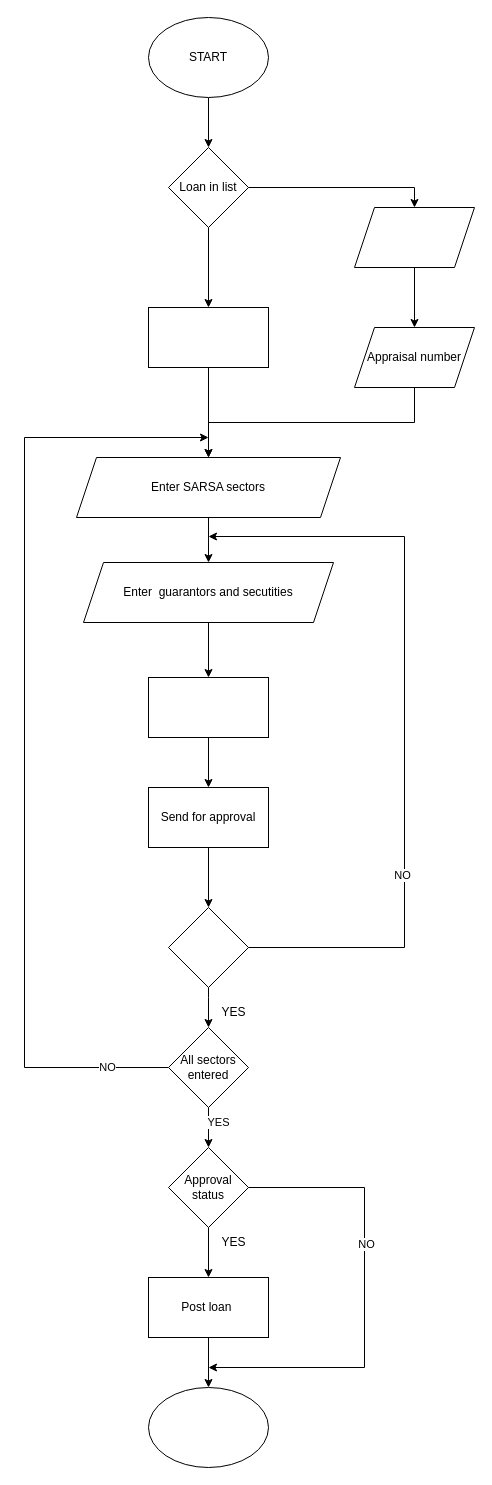
Some shapes in this 492 by 1485 pixel diagram are drawn without their labels. Here are the shapes that lost their labels. From the top down, the centre of each, then its label:
At (414,237): "Member number".
At (208,337): "Open record".
At (208,707): "Choose disbursement account".
At (208,947): "Security approved".
At (208,1427): "STOP".
